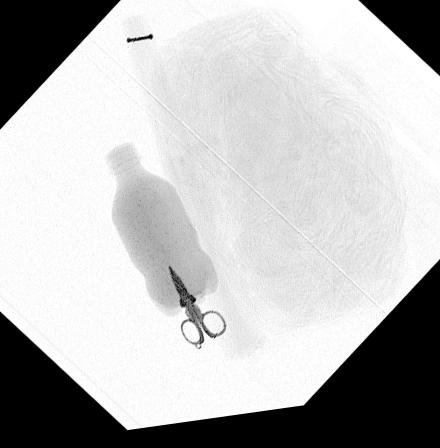Scissors: (167, 269, 226, 357)
